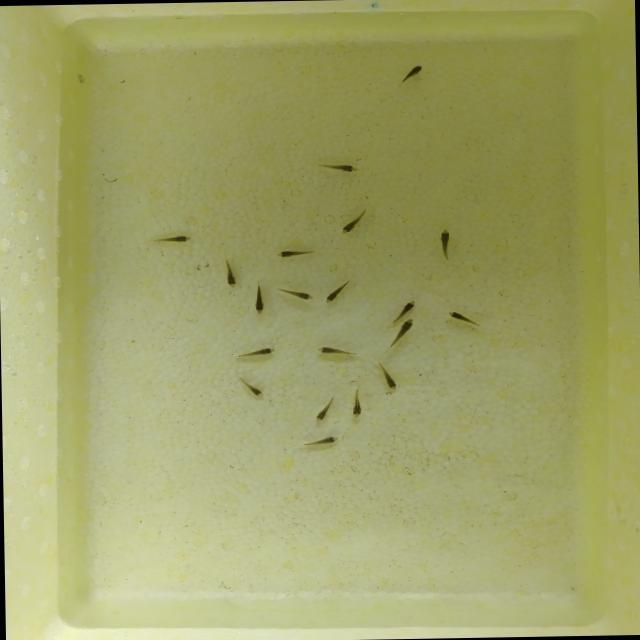fingerling: (385, 318, 420, 352), (372, 356, 400, 392), (337, 206, 370, 236), (444, 308, 484, 330), (234, 372, 266, 398), (229, 344, 277, 361), (312, 342, 361, 358), (322, 278, 352, 304), (395, 62, 425, 88), (218, 252, 239, 289), (434, 227, 454, 264), (272, 286, 318, 302), (313, 159, 362, 174), (293, 433, 341, 448), (312, 394, 336, 424), (250, 280, 269, 316), (149, 233, 195, 246), (348, 387, 366, 419), (274, 248, 326, 259), (398, 298, 418, 314)
